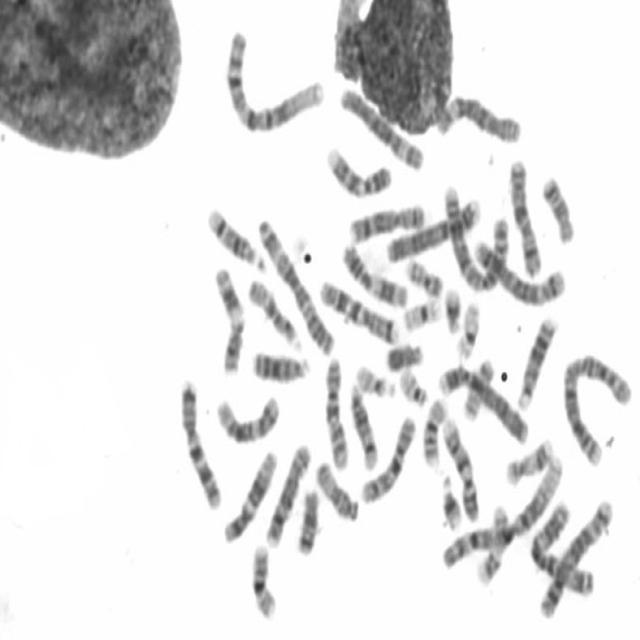A1: (440, 448, 566, 574), (221, 23, 326, 136)
A2: (559, 345, 633, 468), (440, 180, 510, 296)
A3: (255, 214, 336, 356), (527, 501, 597, 598)
B4: (436, 359, 530, 445), (383, 193, 482, 264)
B5: (537, 494, 614, 619), (470, 233, 566, 308)
C10: (358, 410, 418, 507), (321, 351, 351, 472)
C11: (338, 240, 410, 310), (210, 260, 246, 376)
C12: (220, 445, 279, 545), (213, 390, 281, 446)
C6: (338, 85, 426, 173), (433, 91, 524, 146)
C7: (177, 375, 223, 511), (316, 274, 399, 346)
C8: (263, 437, 313, 550), (347, 198, 427, 245)
C9: (439, 411, 481, 524), (323, 141, 393, 199)
D13: (515, 312, 560, 412), (249, 345, 312, 386)
D14: (204, 202, 266, 274), (348, 380, 379, 471)
D15: (244, 271, 303, 351), (312, 456, 360, 524)
E16: (248, 538, 279, 622), (419, 393, 449, 468)
E17: (474, 499, 512, 588), (500, 432, 554, 488)
E18: (538, 169, 576, 246), (293, 482, 321, 556)
F19: (452, 298, 481, 363), (399, 293, 442, 333)
F20: (460, 355, 494, 424), (402, 254, 445, 299)
G21: (438, 470, 464, 532), (442, 282, 462, 336)
G22: (353, 359, 398, 399), (396, 364, 429, 408)
X: (506, 152, 544, 278)
Y: (382, 337, 426, 373)
